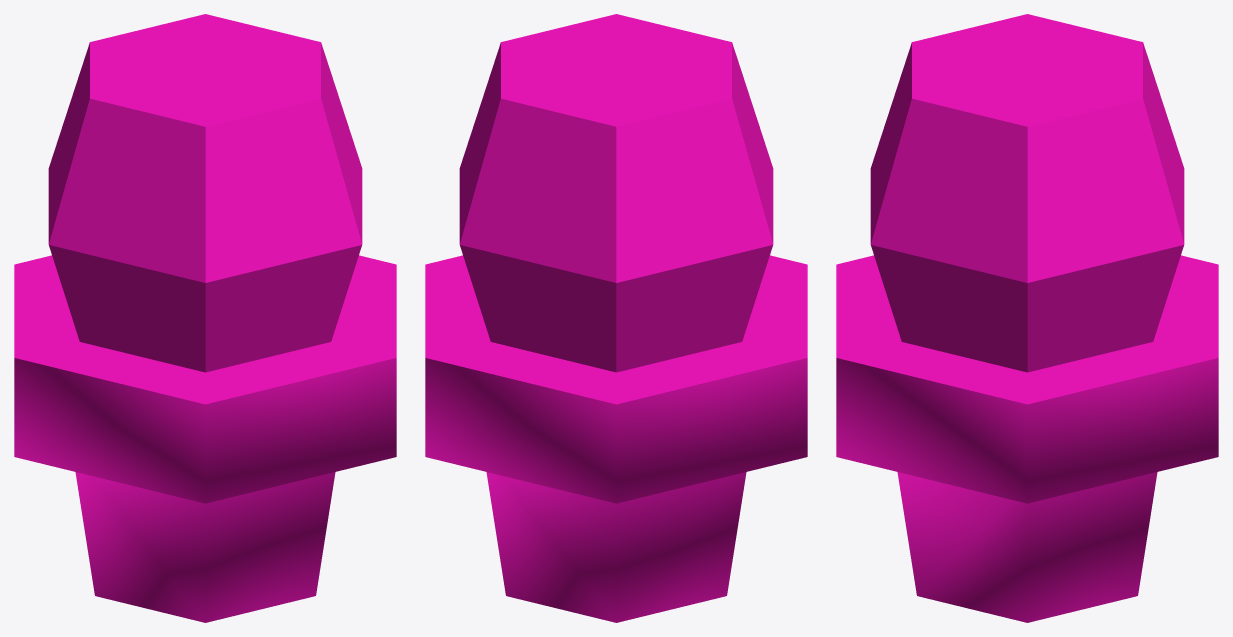
Rendered from study_plant_cactus_2_meshCollider.fbx.
The picture shows the model from 3 angles, left to right: view 1: azimuth 30°, elevation 25°; view 2: azimuth 150°, elevation 25°; view 3: azimuth 270°, elevation 25°; orthographic projection.
Visible parts, largest first — view 1: study_plant_cactus_2_meshCollider; view 2: study_plant_cactus_2_meshCollider; view 3: study_plant_cactus_2_meshCollider.
Part boxes in pixels (bbox=[...]): study_plant_cactus_2_meshCollider: bbox=[14, 14, 396, 622]; study_plant_cactus_2_meshCollider: bbox=[425, 14, 807, 622]; study_plant_cactus_2_meshCollider: bbox=[836, 14, 1218, 622].
Size of the model in its own units: 15.6 by 19.45 by 13.51.
